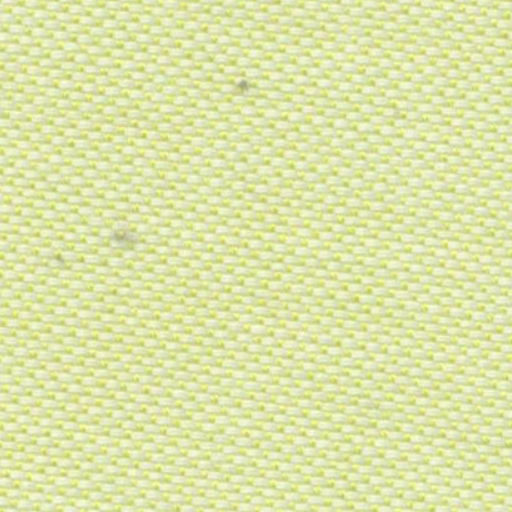WuZi: (50, 210, 141, 270), (221, 72, 260, 106)
